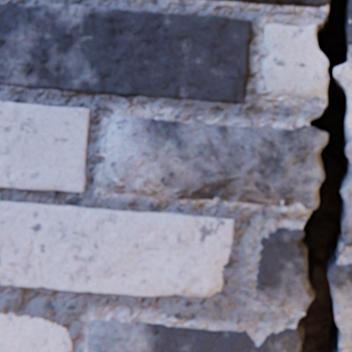brick: (0, 3, 251, 103), (0, 201, 235, 296), (0, 101, 91, 192), (0, 312, 73, 351)
broken_brick: (103, 114, 327, 209), (89, 318, 301, 351), (263, 24, 328, 99), (256, 227, 311, 310), (328, 264, 351, 347), (333, 62, 351, 130), (215, 0, 329, 7), (342, 177, 351, 245), (347, 23, 351, 44), (348, 0, 351, 21)
crack: (297, 0, 351, 351)
